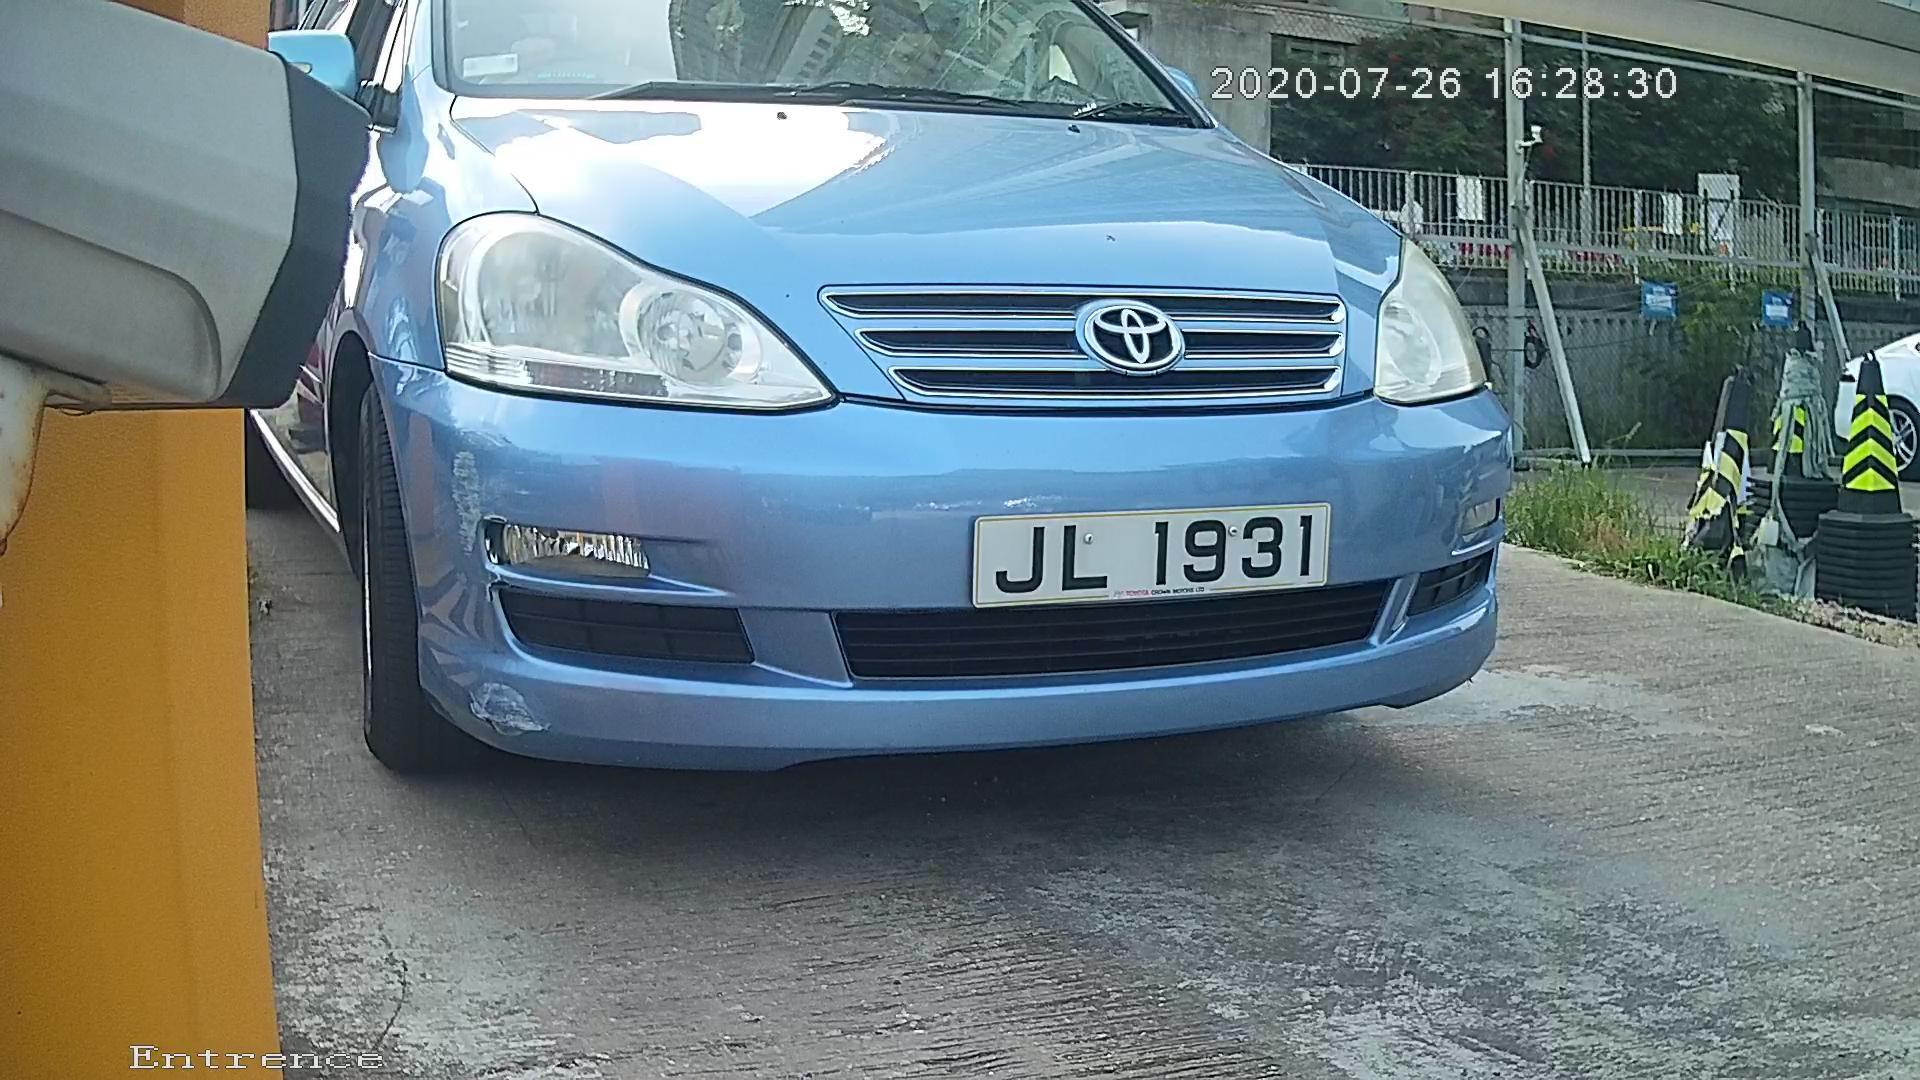privatecar: (215, 11, 1663, 820)
